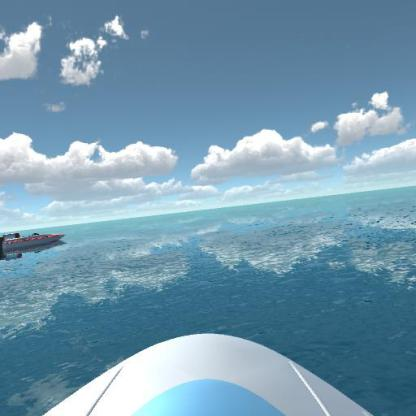usv3: (0, 224, 65, 262)
